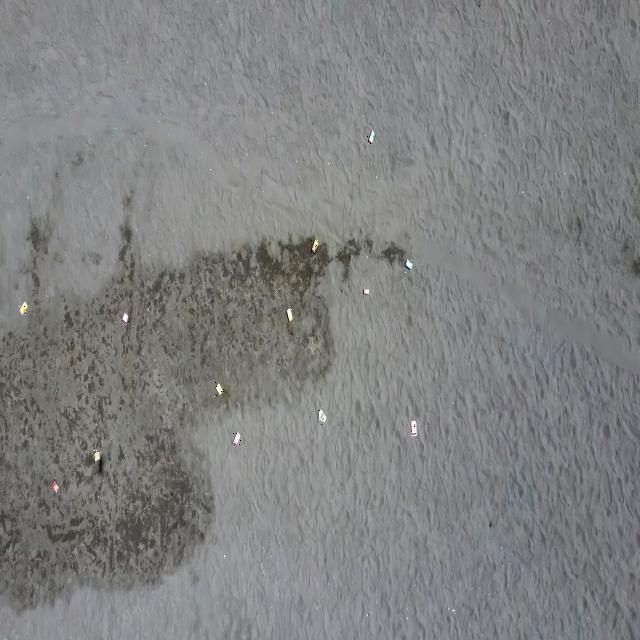Garbage: (91, 448, 100, 472), (19, 300, 27, 315), (367, 128, 375, 143), (311, 238, 319, 252), (318, 409, 326, 423), (408, 420, 415, 435), (215, 382, 223, 395), (232, 432, 239, 446), (51, 480, 59, 492), (92, 449, 99, 462), (404, 259, 412, 270), (121, 312, 128, 323), (287, 307, 292, 320), (447, 607, 455, 612), (363, 287, 368, 293)
